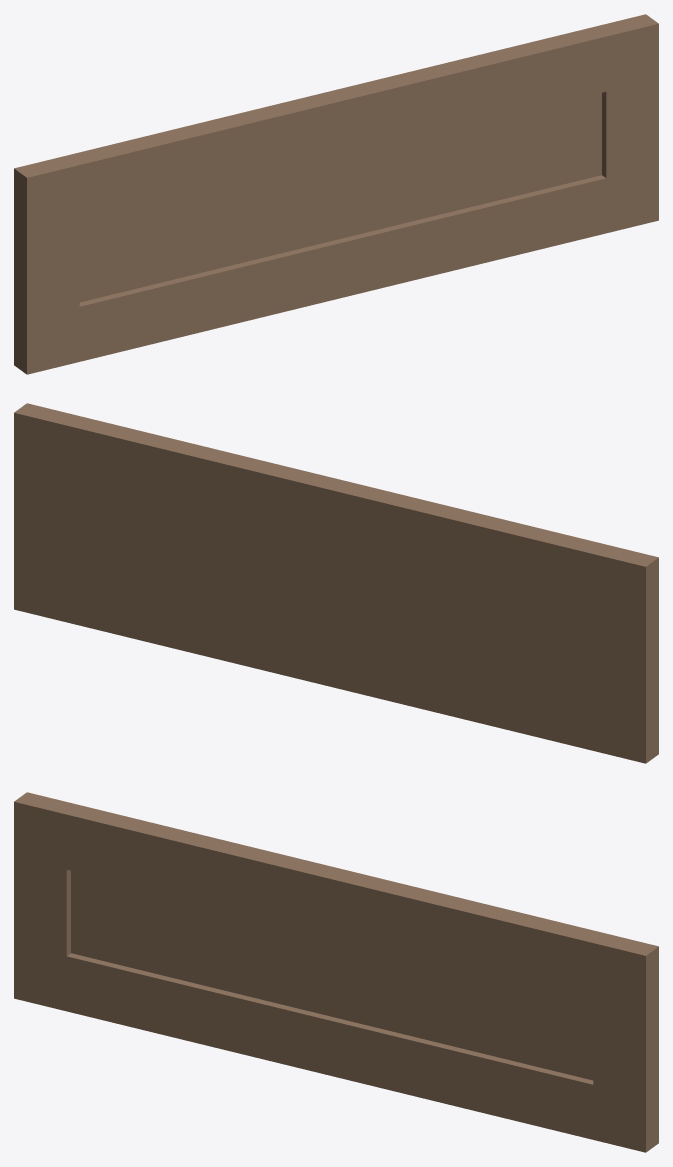
Rendered from drawer_front_02.obj.
3 renders of one model, top to bottom at view 1: azimuth 30°, elevation 25°; view 2: azimuth 150°, elevation 25°; view 3: azimuth 330°, elevation 25°, orthographic.
Parts seen in each view (by area): view 1: drawer_front_02; view 2: drawer_front_02; view 3: drawer_front_02.
Part boxes in pixels (x1=…): drawer_front_02: x1=14, y1=14, x2=658, y2=374; drawer_front_02: x1=14, y1=403, x2=658, y2=763; drawer_front_02: x1=14, y1=792, x2=658, y2=1152.
Size of the model in its own units: 533 by 159 by 19.05.
